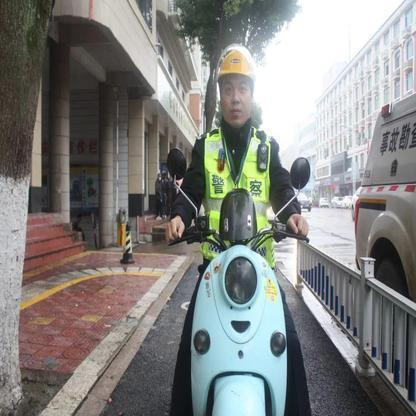target: (160, 41, 318, 408)
